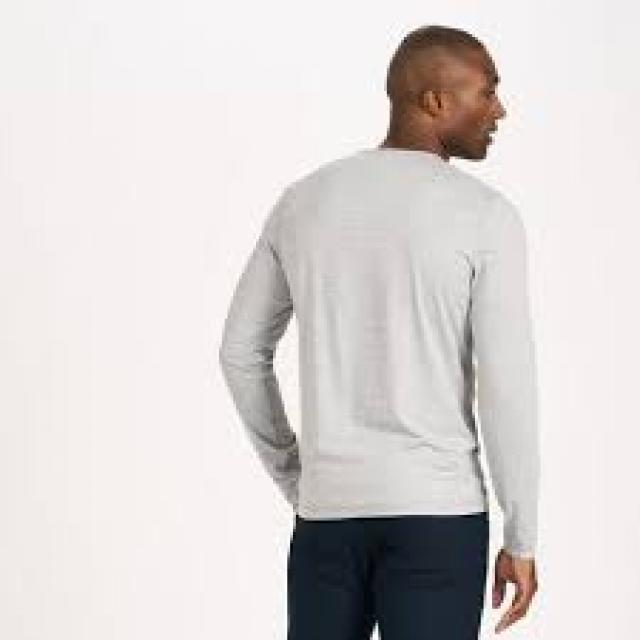plain: (205, 138, 537, 514)
